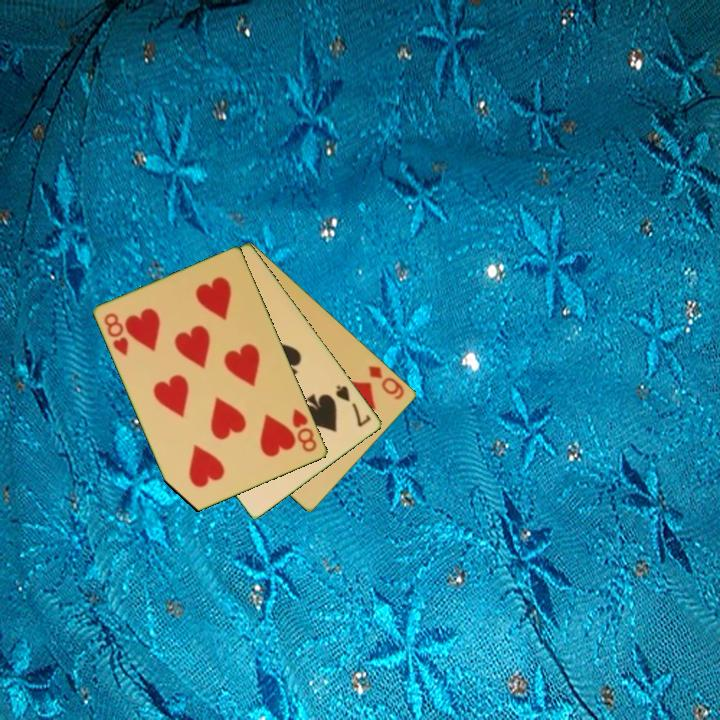6d: (365, 362, 408, 403)
7s: (332, 382, 374, 430)
8h: (289, 405, 320, 455), (101, 309, 132, 359)
